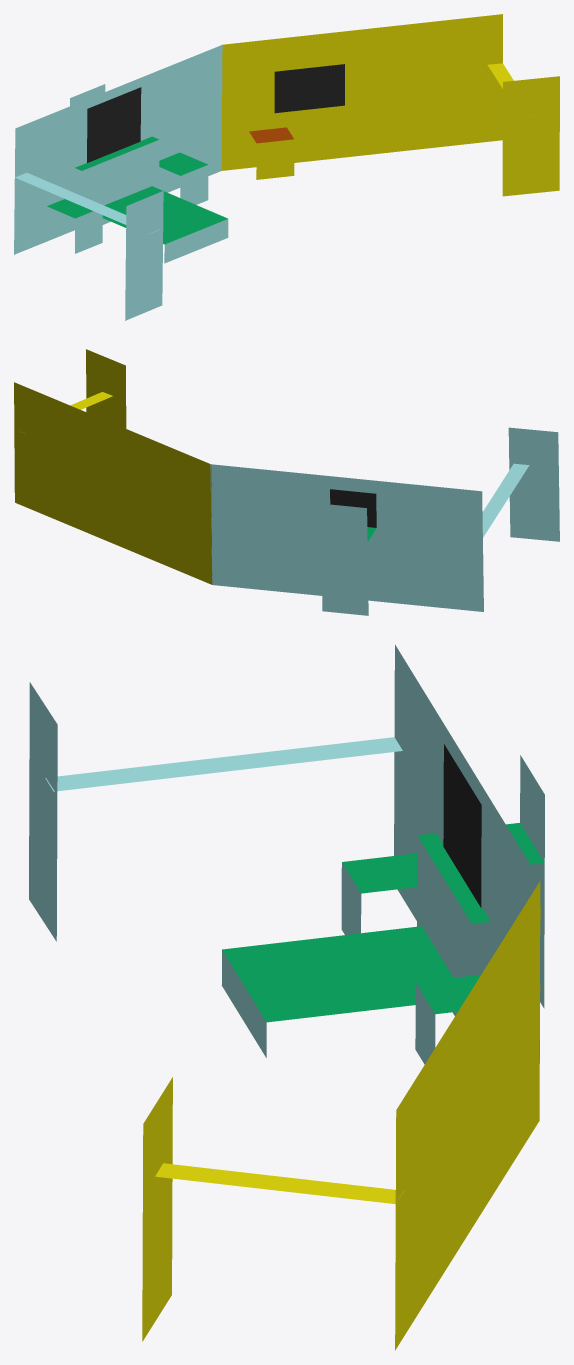
Rendered from room1_safeelement_pfall_brclosed.fbx.
3 renders of one model, top to bottom at view 1: azimuth 30°, elevation 25°; view 2: azimuth 150°, elevation 25°; view 3: azimuth 270°, elevation 25°, orthographic. The views are drawn at different scales.
Parts seen in each view (by area): view 1: REF_popup_noanim:polySurface6, REF_popup_noanim:F_wall, REF_popup_noanim:F_door, REF_popup_noanim:bathroomdoor, REF_popup_noanim:F_window, REF_popup_noanim:F_headpiece, REF_popup_noanim:polySurface5, REF_popup_noanim:F_painting, REF_popup_noanim:T_bed, REF_popup_noanim:F_phonetable, REF_popup_noanim:F_bed, REF_popup_noanim:T_window (+6 smaller); view 2: REF_popup_noanim:F_wall, REF_popup_noanim:polySurface6, REF_popup_noanim:F_window, REF_popup_noanim:F_safe, REF_popup_noanim:bathroomdoor, REF_popup_noanim:F_door, REF_popup_noanim:T_window, REF_popup_noanim:F_painting; view 3: REF_popup_noanim:polySurface6, REF_popup_noanim:F_wall, REF_popup_noanim:T_bed, REF_popup_noanim:F_door, REF_popup_noanim:F_window, REF_popup_noanim:T_window, REF_popup_noanim:bathroomdoor, REF_popup_noanim:F_headpiece, REF_popup_noanim:F_painting, REF_popup_noanim:T_door, REF_popup_noanim:F_safe, REF_popup_noanim:T_nightstand_L (+5 smaller).
Part boxes in pixels (left/top/right/bottom): REF_popup_noanim:polySurface6: left=221, top=14, right=502, bottom=170; REF_popup_noanim:F_wall: left=14, top=45, right=222, bottom=254; REF_popup_noanim:F_door: left=502, top=76, right=559, bottom=196; REF_popup_noanim:bathroomdoor: left=378, top=49, right=426, bottom=153; REF_popup_noanim:F_window: left=125, top=191, right=163, bottom=320; REF_popup_noanim:F_headpiece: left=81, top=140, right=159, bottom=224; REF_popup_noanim:polySurface5: left=274, top=64, right=344, bottom=113; REF_popup_noanim:F_painting: left=87, top=87, right=141, bottom=162; REF_popup_noanim:T_bed: left=102, top=186, right=227, bottom=244; REF_popup_noanim:F_phonetable: left=256, top=139, right=294, bottom=179; REF_popup_noanim:F_bed: left=164, top=219, right=228, bottom=263; REF_popup_noanim:T_window: left=15, top=172, right=159, bottom=234; REF_popup_noanim:F_wall: left=210, top=464, right=483, bottom=611; REF_popup_noanim:polySurface6: left=14, top=382, right=212, bottom=584; REF_popup_noanim:F_window: left=508, top=427, right=559, bottom=541; REF_popup_noanim:F_safe: left=321, top=503, right=368, bottom=615; REF_popup_noanim:bathroomdoor: left=67, top=430, right=102, bottom=538; REF_popup_noanim:F_door: left=86, top=349, right=126, bottom=428; REF_popup_noanim:T_window: left=482, top=463, right=529, bottom=537; REF_popup_noanim:F_painting: left=330, top=489, right=376, bottom=527; REF_popup_noanim:polySurface6: left=395, top=880, right=540, bottom=1350; REF_popup_noanim:F_wall: left=394, top=644, right=540, bottom=1059; REF_popup_noanim:T_bed: left=222, top=926, right=453, bottom=1022; REF_popup_noanim:F_door: left=142, top=1077, right=172, bottom=1341; REF_popup_noanim:F_window: left=29, top=682, right=57, bottom=941; REF_popup_noanim:T_window: left=45, top=737, right=402, bottom=791; REF_popup_noanim:bathroomdoor: left=434, top=1059, right=459, bottom=1287; REF_popup_noanim:F_headpiece: left=417, top=836, right=471, bottom=1015; REF_popup_noanim:F_painting: left=443, top=744, right=481, bottom=907; REF_popup_noanim:T_door: left=155, top=1163, right=403, bottom=1204; REF_popup_noanim:F_safe: left=520, top=755, right=544, bottom=1008; REF_popup_noanim:T_nightstand_L: left=342, top=853, right=417, bottom=893.
Size of the model in its own units: 96.32 by 45.86 by 24.57.
